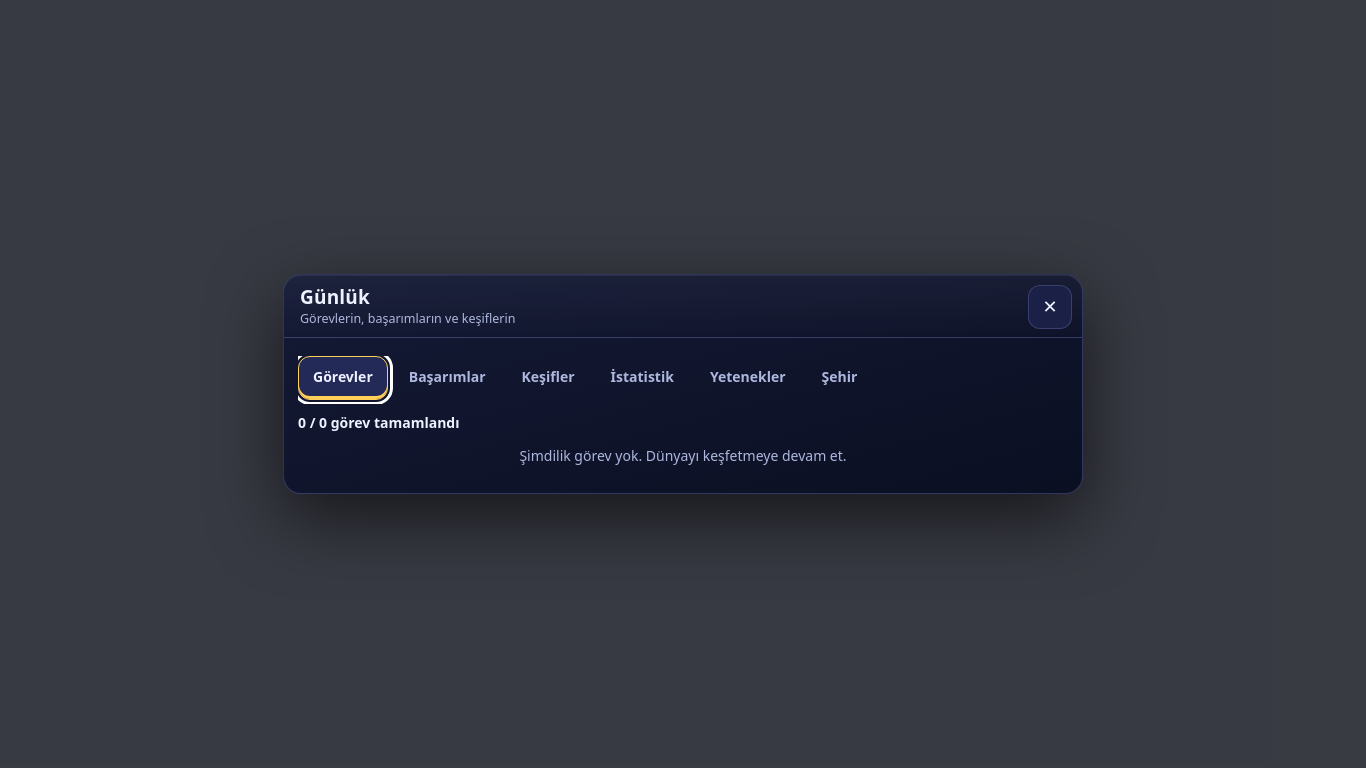
Test: JournalPanel «Şehir» sekmesi › journal.city varsa sekme çıkar; çip/grafiti/oda sayaçları, yarış en iyileri ve günlük parçaları listelenir
What coordinates should you click on to do the following:
click the tab "Şehir"
I would click on:
 (840, 378)
Its box is top-left (807, 356), bottom-right (872, 400).
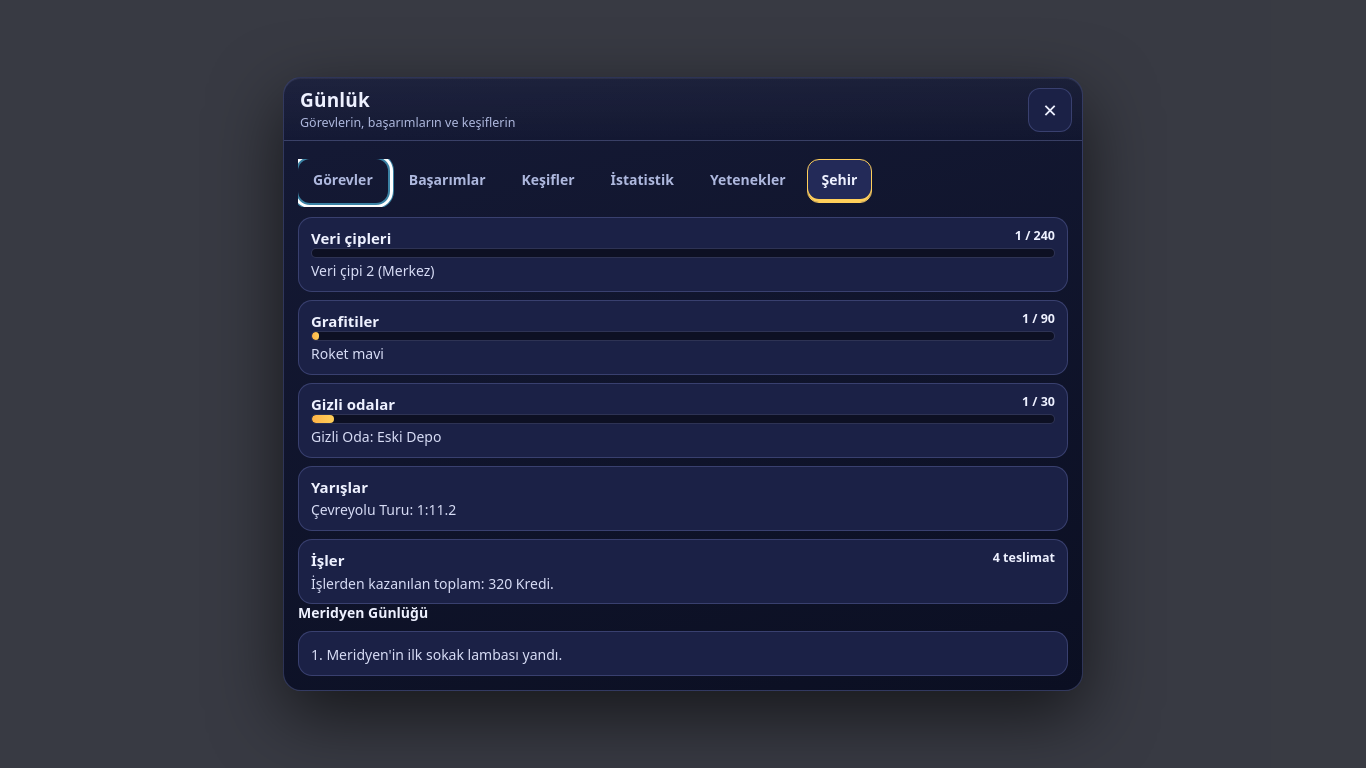
Expected: the list item with test id "city-chips" shows "1 / 240", top-left (298, 217), bottom-right (1068, 292)
Expected: the list item with test id "city-graffiti" shows "Roket mavi", top-left (311, 344), bottom-right (384, 363)
Expected: the list item with test id "city-rooms" shows "Eski Depo", top-left (311, 427), bottom-right (442, 446)
